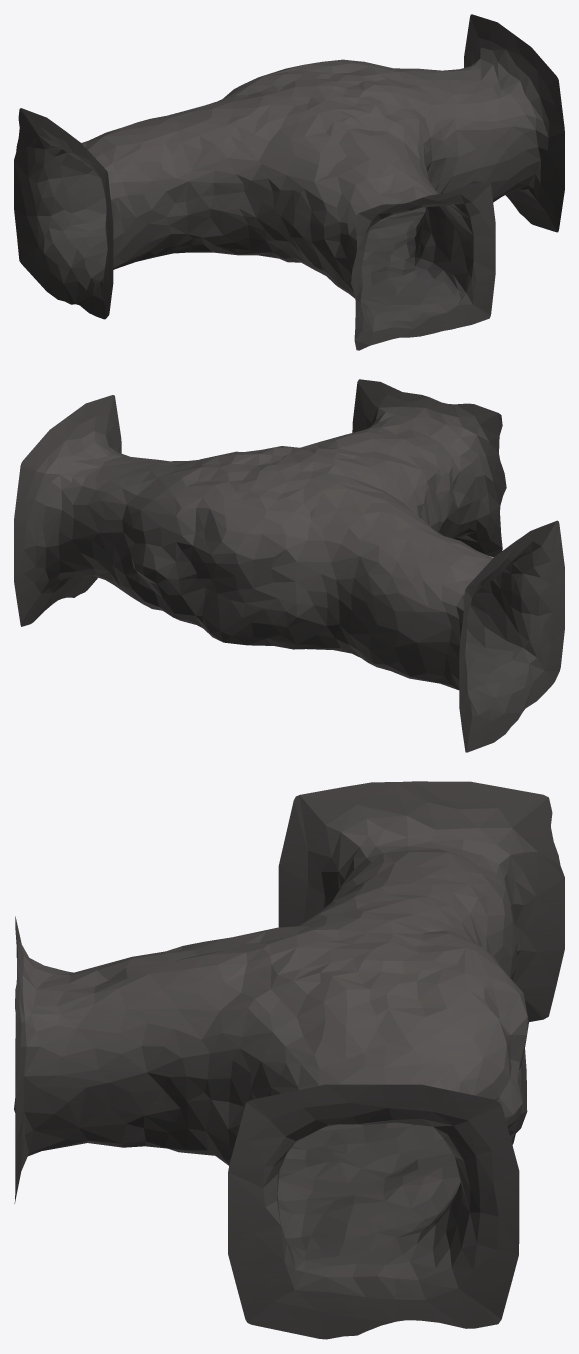
Rendered from ZLP_Cave_A_8.FBX.
3 renders of one model, top to bottom at view 1: azimuth 30°, elevation 25°; view 2: azimuth 150°, elevation 25°; view 3: azimuth 270°, elevation 25°, orthographic. The views are drawn at different scales.
Visible parts, largest first — view 1: ZLP_Cave_A_8; view 2: ZLP_Cave_A_8; view 3: ZLP_Cave_A_8.
Part boxes in pixels (x1=…): ZLP_Cave_A_8: x1=14, y1=14, x2=564, y2=350; ZLP_Cave_A_8: x1=14, y1=379, x2=564, y2=752; ZLP_Cave_A_8: x1=14, y1=781, x2=564, y2=1339.
Bounding box in the file's own units: 4603 × 1790 × 3506.
